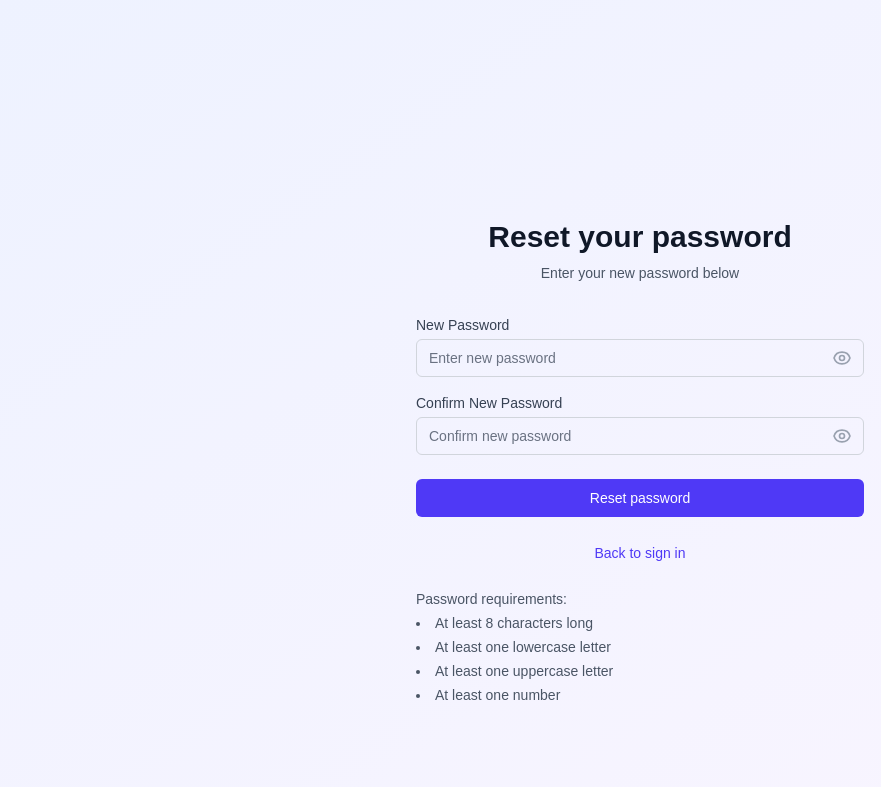
Test: ResetPasswordForm › handles form submission with valid data
Type "StrongPassword123!" into the password field labelled "New Password" at x=640, y=358, box x1=416 y1=339 x2=864 y2=377
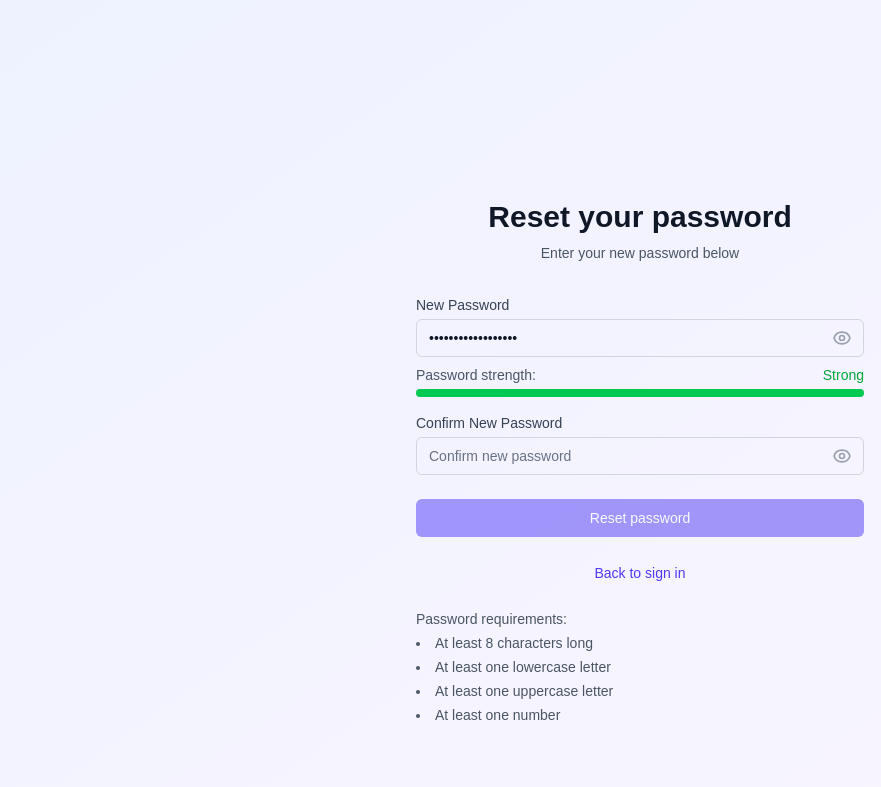
Type "StrongPassword123!" into the password field labelled "Confirm New Password" at x=640, y=456, box x1=416 y1=437 x2=864 y2=475
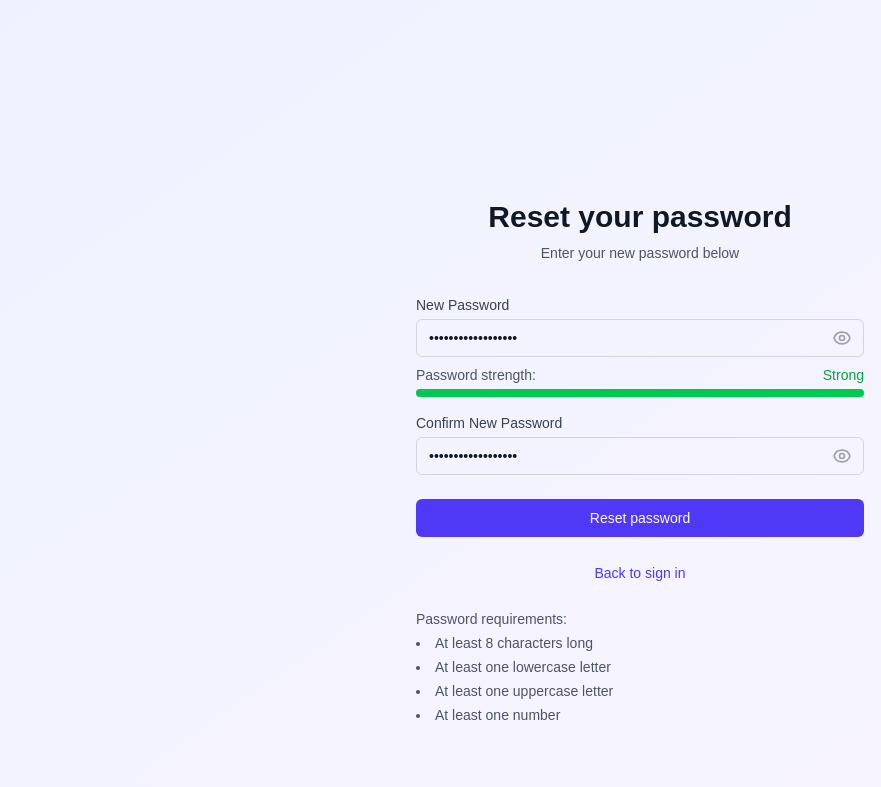
Click the button "Reset password" at x=640, y=518, box x1=416 y1=499 x2=864 y2=537
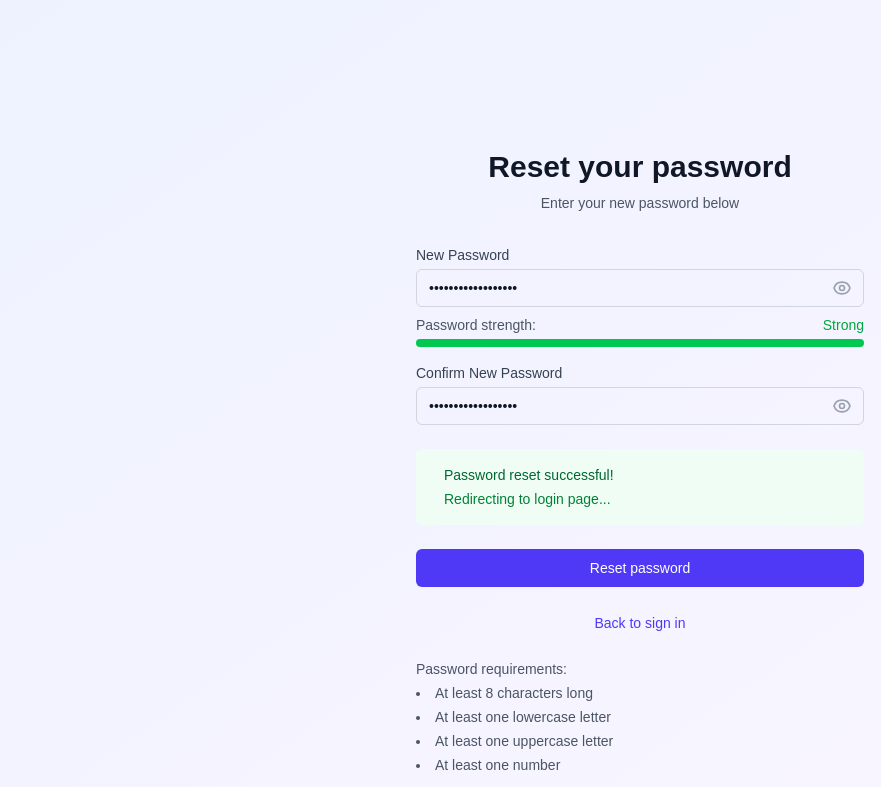
Expected: the text "Password reset successful!" is shown, x1=444 y1=465 x2=614 y2=485
